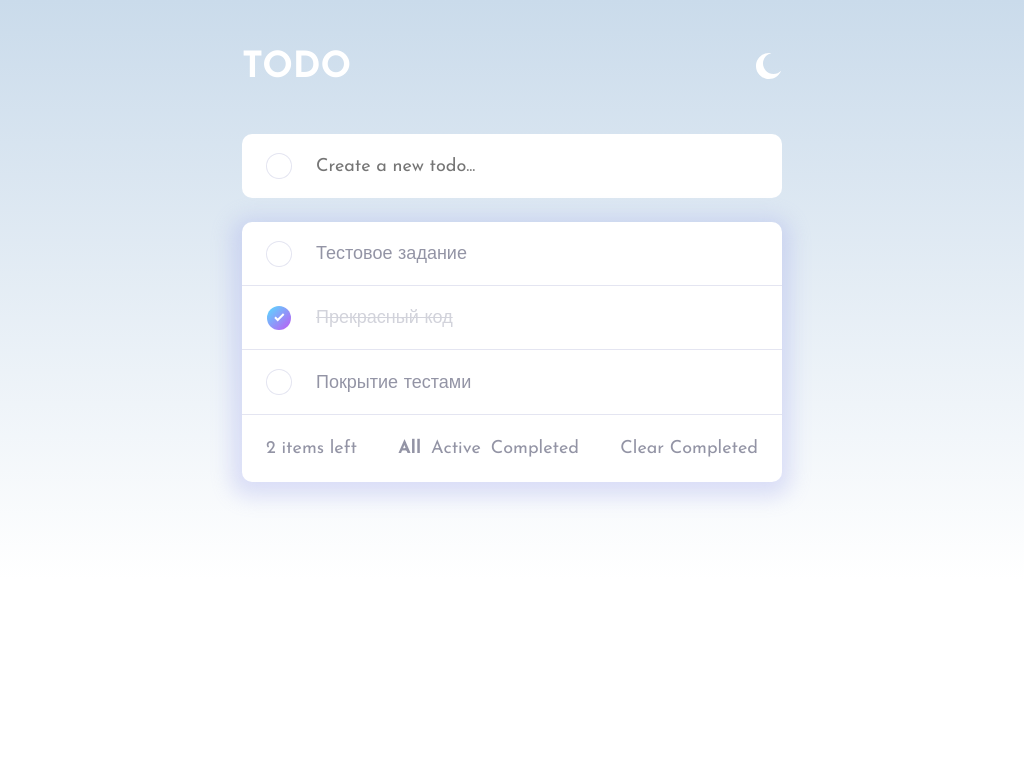
Test: Redux store created from the reducer › AND when a new todo is added › AND when completed todos are selected › THEN the todo is not visible
The image size is (1024, 768).
Type "My first test todo" into the field with test id "input" at (537, 166), box [316,156,758,176]
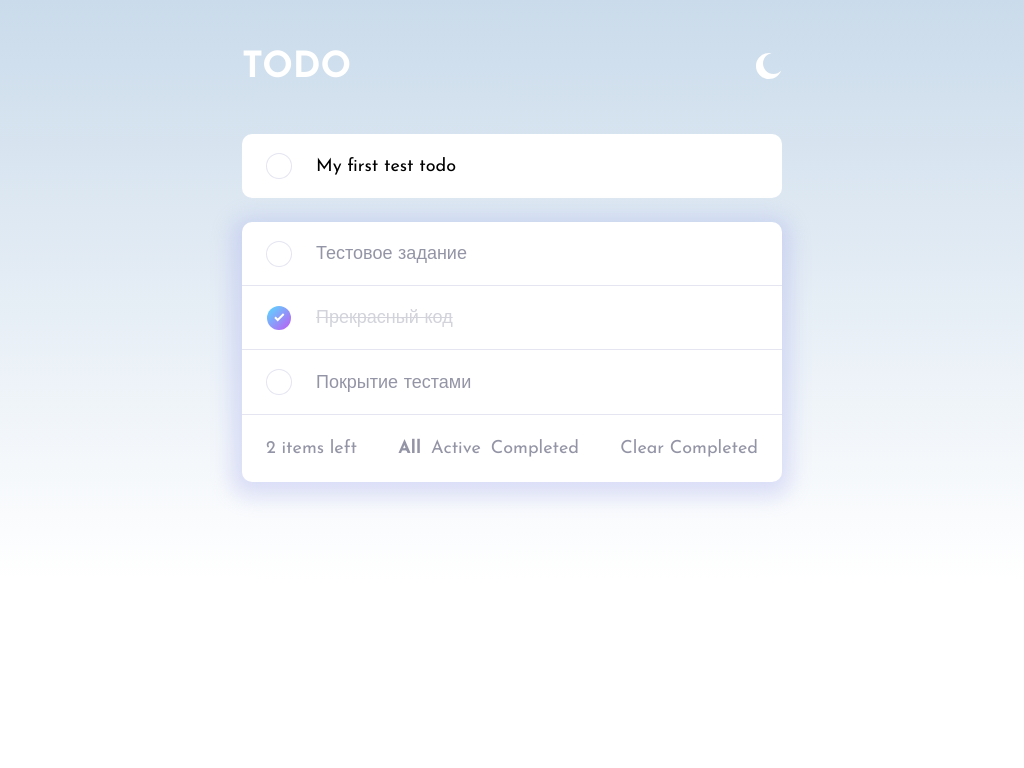
Submit the form with test id "input-form", box [316,156,758,176]
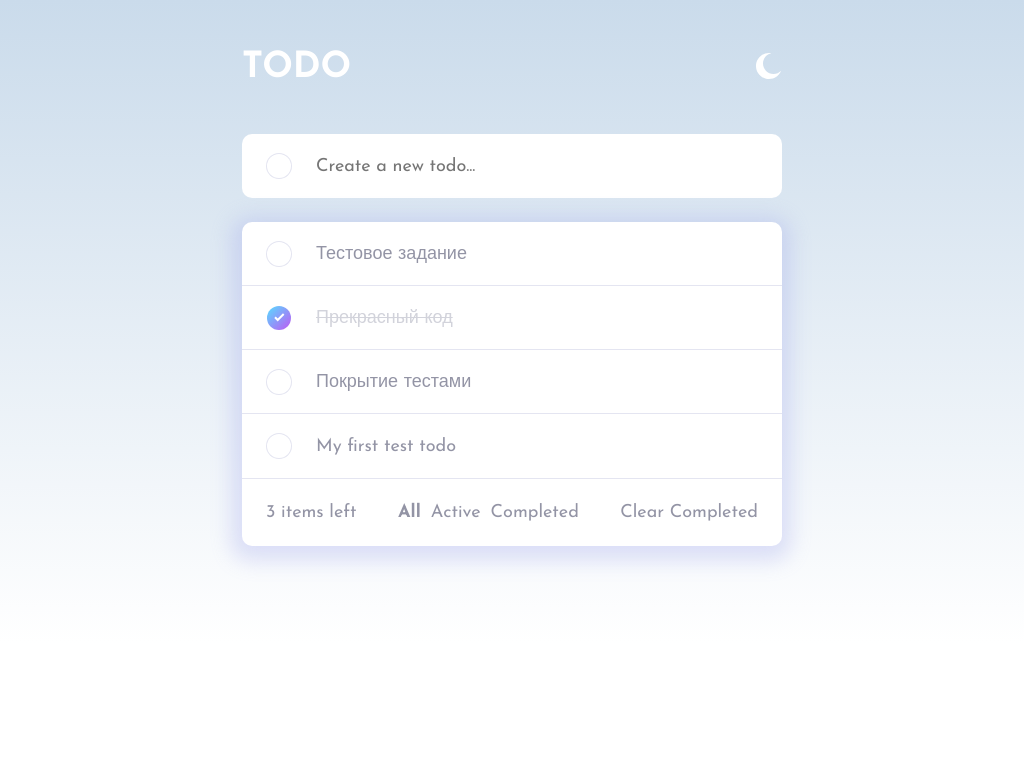
Click the button with test id "completed-button" at (535, 512), box [491,503,579,522]
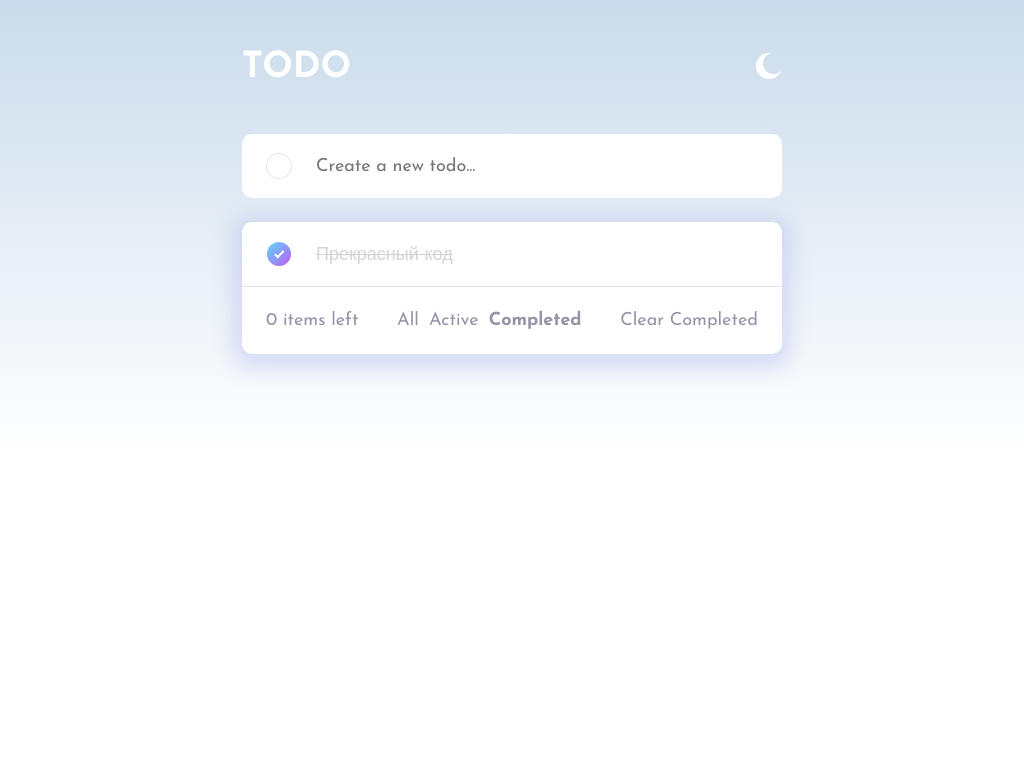
expect the text "My first test todo" is gone: met
